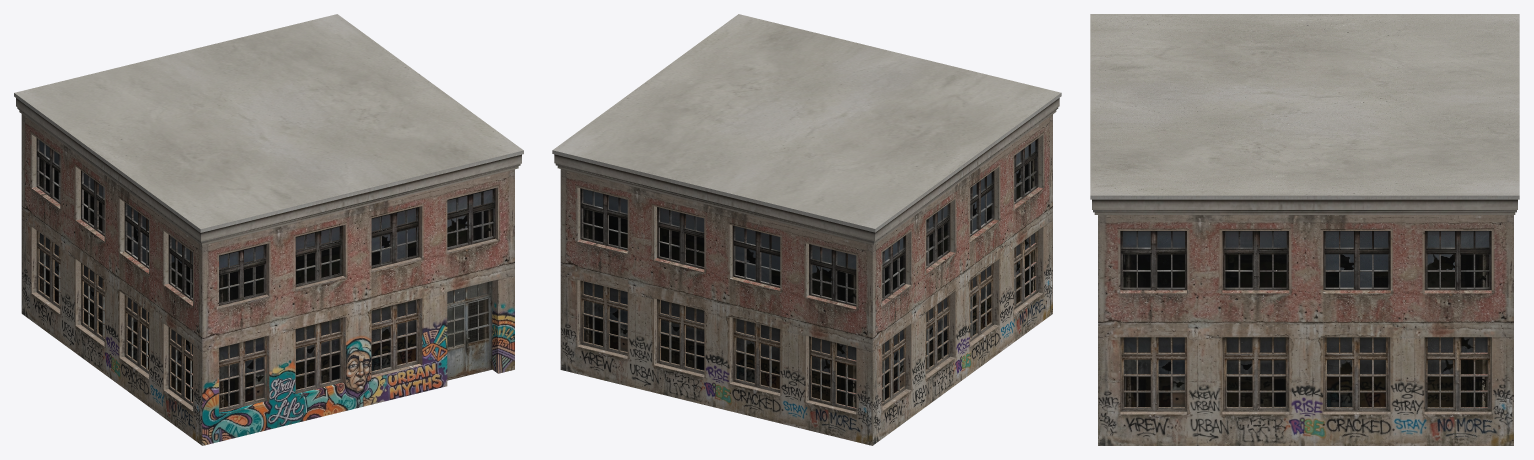
The picture shows the model from 3 angles, left to right: view 1: azimuth 30°, elevation 25°; view 2: azimuth 150°, elevation 25°; view 3: azimuth 270°, elevation 25°; orthographic projection. The views are drawn at different scales.
Parts seen in each view (by area): view 1: building; view 2: building; view 3: building.
Part boxes in pixels (box(x1,y1,x2,y2)): building: box(14, 14, 523, 445); building: box(552, 14, 1061, 445); building: box(1090, 14, 1519, 445).
Bounding box in the file's own units: 984 × 641 × 983.
